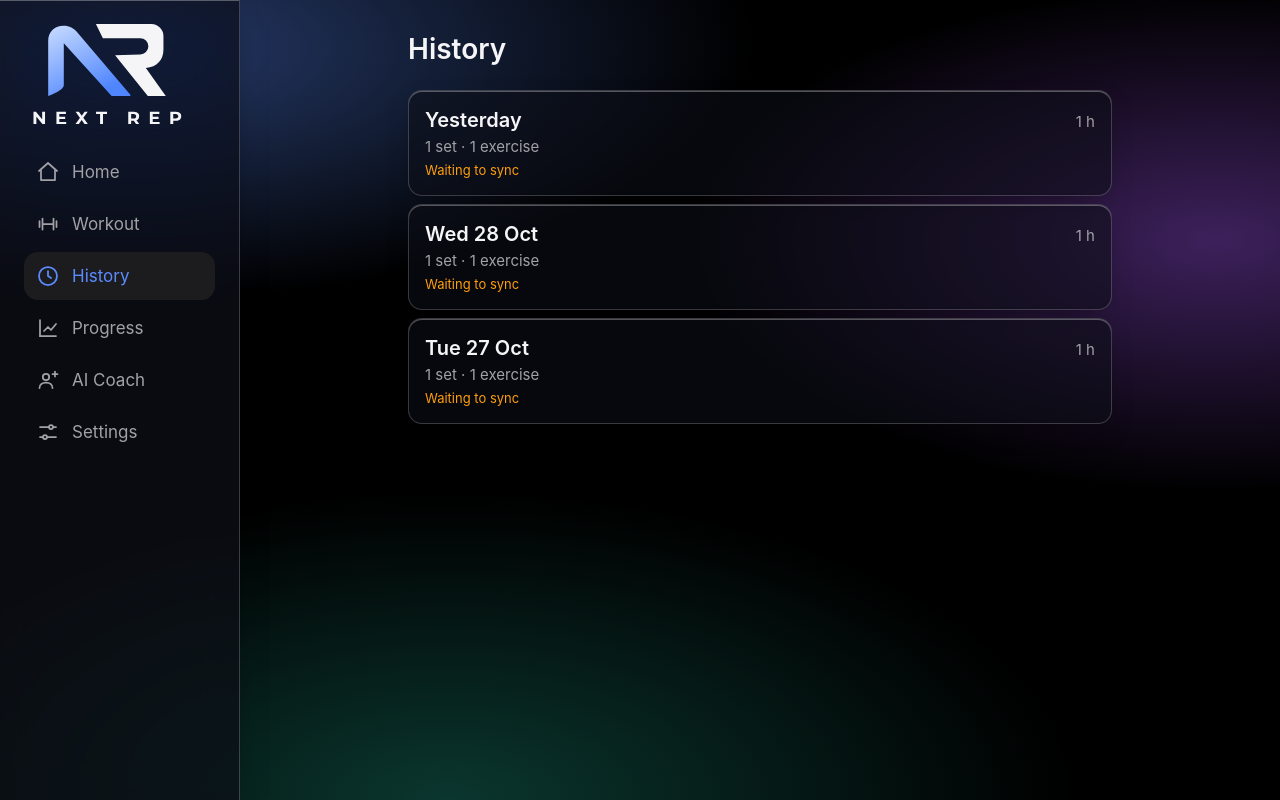
Test case: QA kg to lb to kg changes nothing in the records › in kg, a 60 Kg set logged twice is not a record, while a heavier one is (positive control)
The width and height of the screenshot is (1280, 800).
What coordinates should you click on to do the following:
click the link "Yesterday 1 h 1 set · 1 exercise Waiting to sync"
I would click on:
 (473, 120)
Its box is 408,90 -> 1112,196.
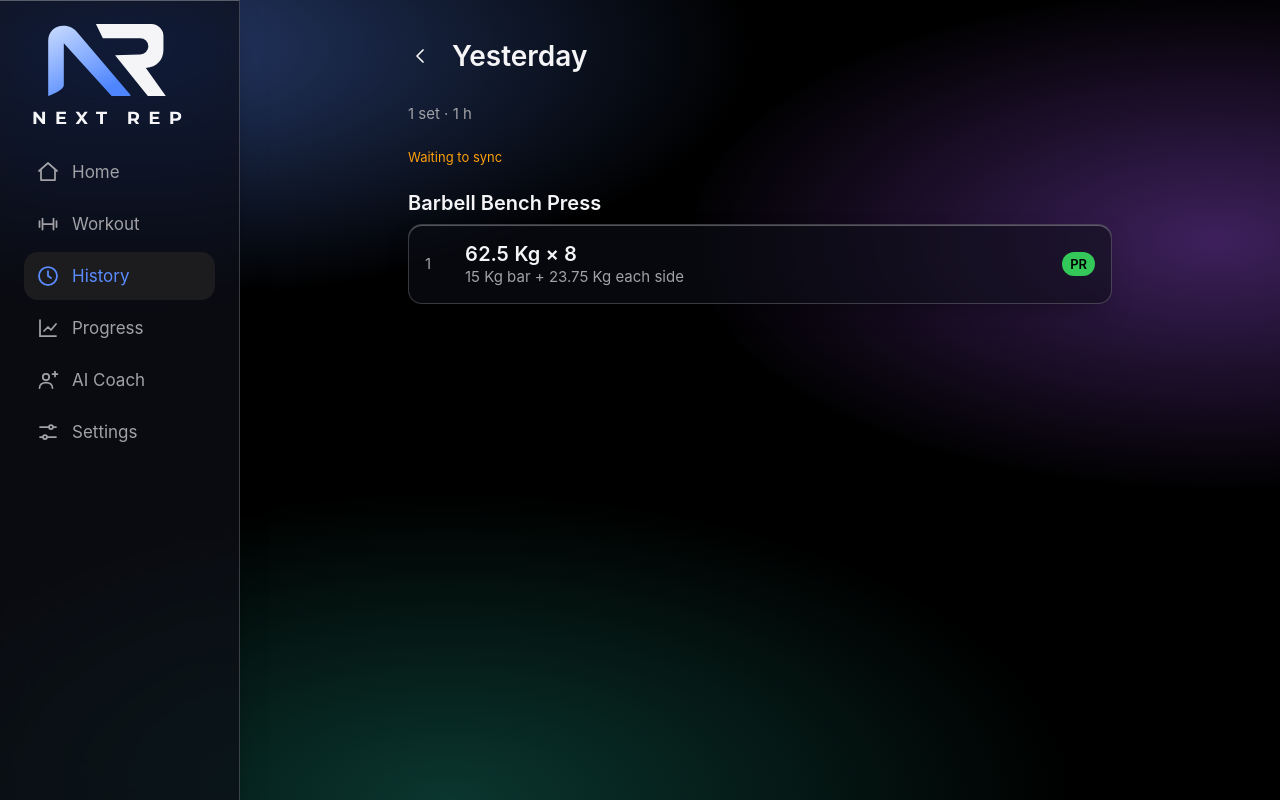
What coordinates should you click on to do the following:
click the link named "Back"
I would click on:
 (420, 56)
Its box is 408,44 -> 432,68.
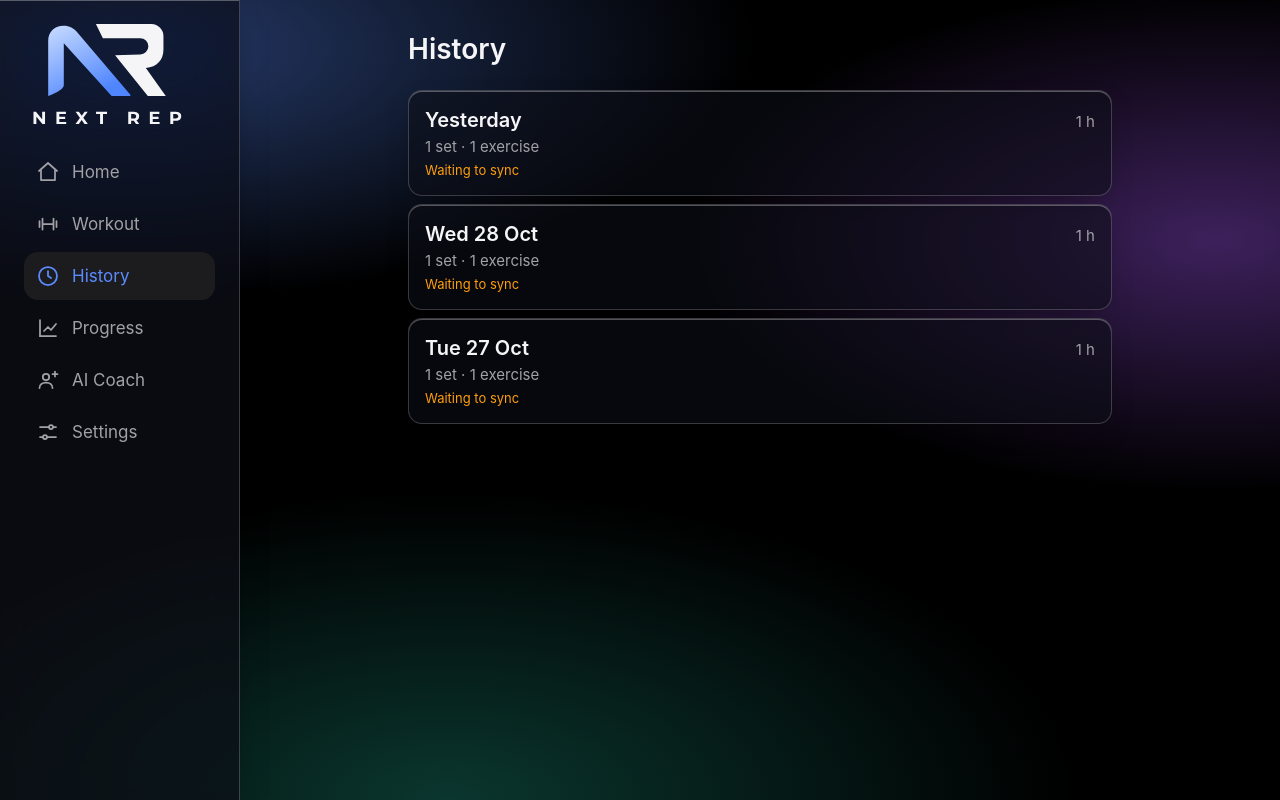
What coordinates should you click on to do the following:
click the link "Wed 28 Oct 1 h 1 set · 1 exercise Waiting to sync"
I would click on:
 (482, 234)
Its box is 408,204 -> 1112,310.
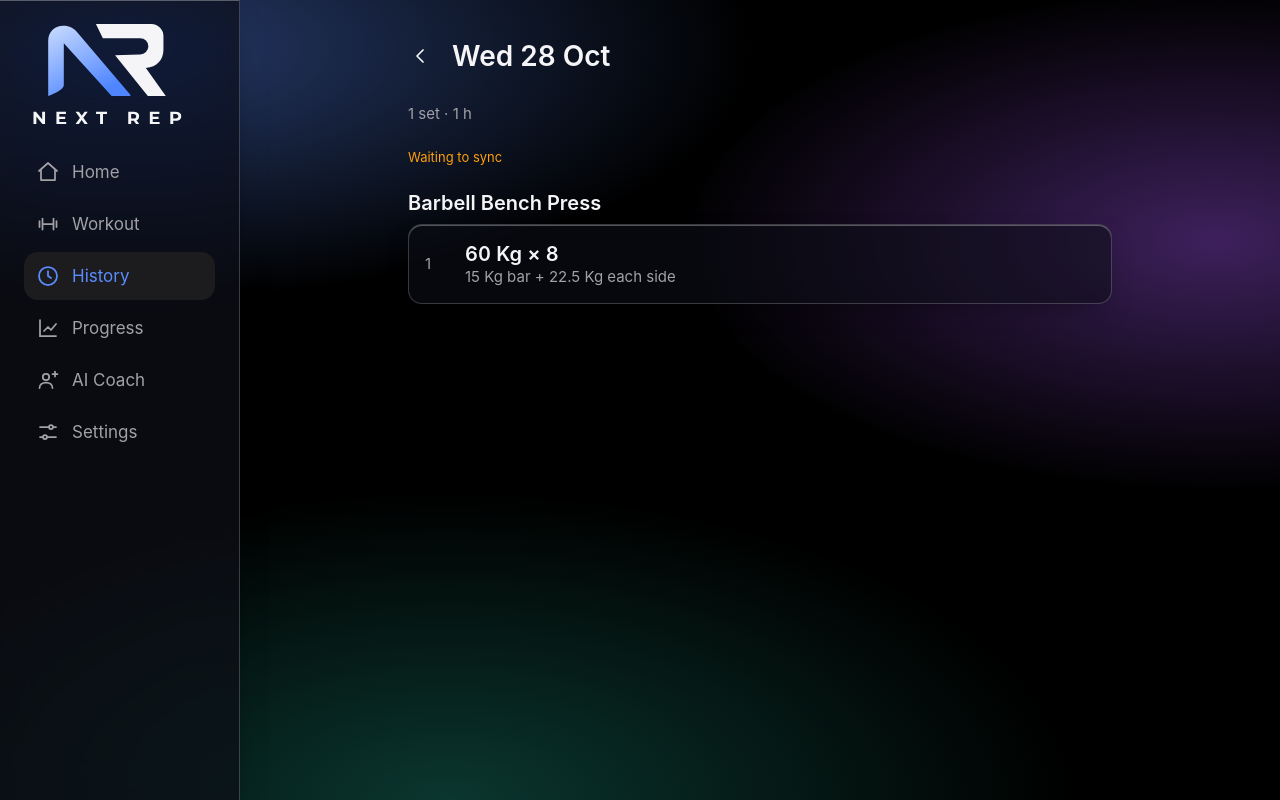
Check: the element "Barbell Bench Press" shows "60 Kg × 8", box 465,242 -> 559,266
